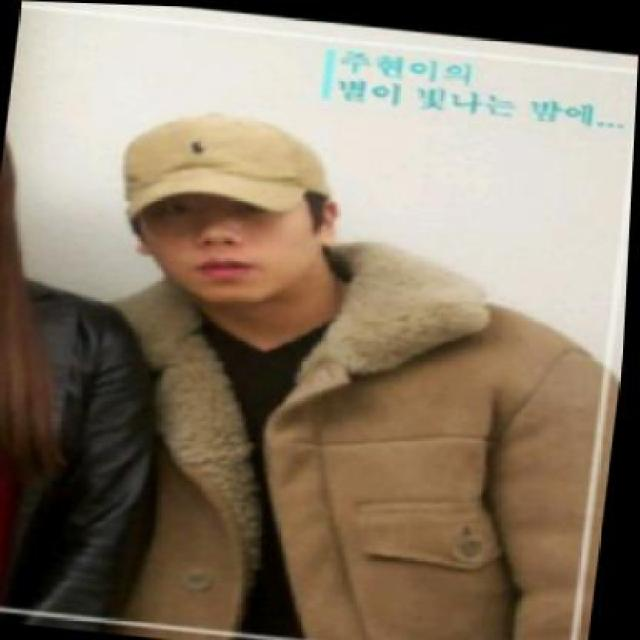hat: (106, 97, 348, 238)
